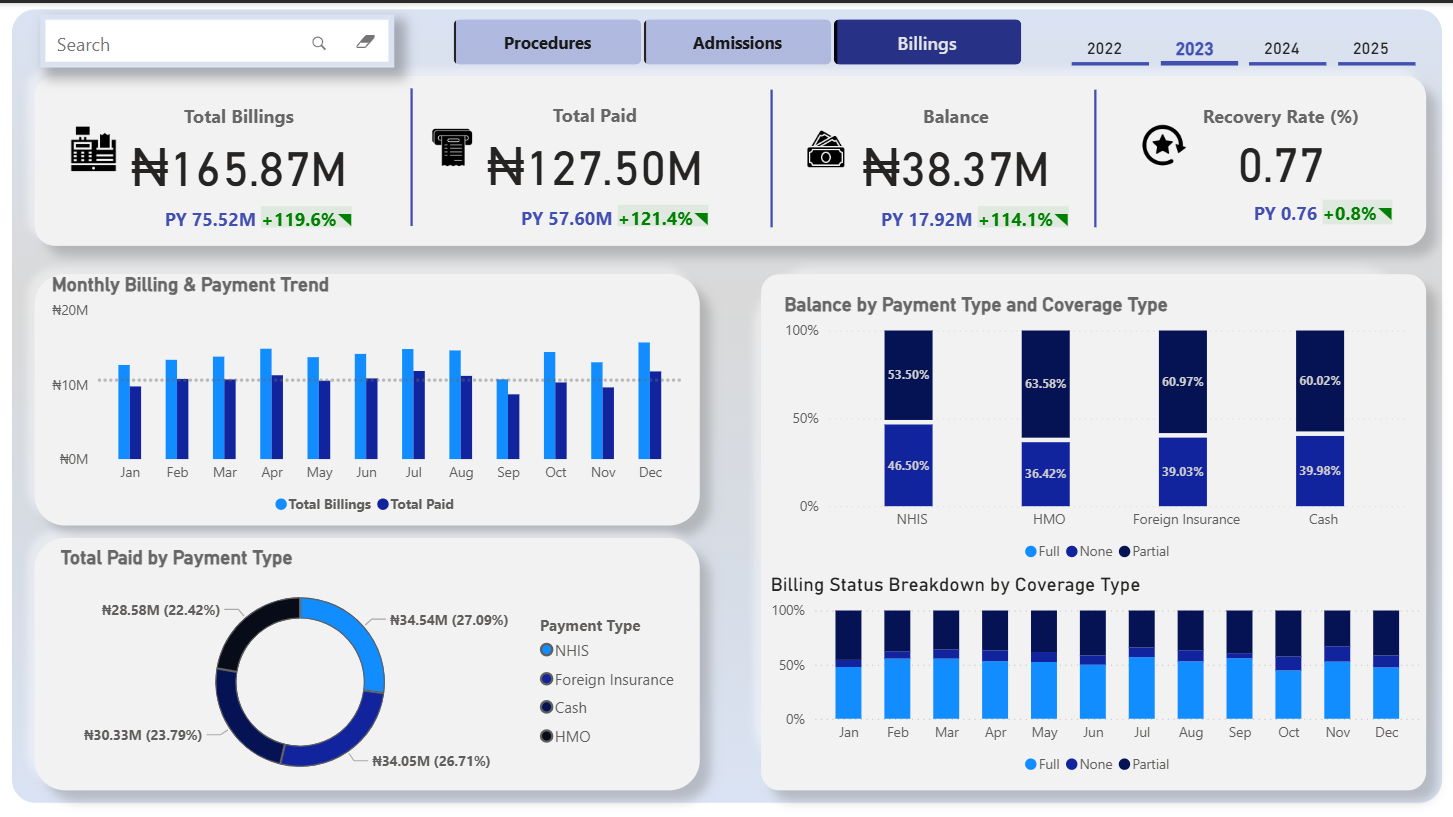

The page's visual inventory and layout, read from the dashboard file:
{"tool":"powerbi","page":{"name":"Billings","canvas":[1280,720],"ordinal":2},"visuals":[{"type":"advancedSlicerVisual","fields":{"Values":["Calendar_Billing.Year"]},"box":[937.9,10.2,315.6,47.1],"z":0},{"type":"cardVisual","fields":{"Data":["All Measures.Total Billings"]},"box":[40.6,71.1,286.8,132],"z":1000},{"type":"cardVisual","fields":{"Data":["All Measures.Total Amount Paid"]},"box":[355.9,70.2,284.5,131.9],"z":2000},{"type":"cardVisual","fields":{"Data":["All Measures.Outstanding Balance"]},"box":[673,71.4,284.5,131.9],"z":3000},{"type":"cardVisual","fields":{"Data":["All Measures.Recovery Rate (%)"]},"box":[957.5,71.4,284.5,131.9],"z":4000},{"type":"lineClusteredColumnComboChart","title":"Monthly Billing & Payment Trend","fields":{"Category":["Calendar_Billing.Month"],"Y":["All Measures.Total Billings","All Measures.Total Amount Paid"]},"box":[40.8,237.2,563.6,221.9],"z":5000},{"type":"pageNavigator","box":[399.6,14,500.1,40.7],"z":6000},{"type":"textFilter25A4896A83E0487089E2B90C9AE57C8A","fields":{"field":["procedures.PerformedBy"]},"box":[35.6,10.2,311.8,47.1],"z":7000},{"type":"donutChart","title":"Total Paid by Payment Type","fields":{"Y":["All Measures.Total Amount Paid"],"Category":["billing.PaymentType"]},"box":[48.4,477.2,558.7,221.4],"z":8000},{"type":"hundredPercentStackedColumnChart","title":" Balance by Payment Type and Coverage Type","fields":{"Category":["billing.PaymentType"],"Y":["All Measures.Outstanding Balance"],"Series":["billing.CoverageType"]},"box":[685.1,255.4,556.8,245.7],"z":9000},{"type":"hundredPercentStackedColumnChart","title":"Billing Status Breakdown by Coverage Type","fields":{"Category":["Calendar_Billing.Month"],"Y":["Sum(billing.TotalCost)"],"Series":["billing.CoverageType"]},"box":[673,501.1,581,186.4],"z":10000}]}

Visuals, with their boxes in screenshot pixels (x1, y1, x2, y2), scaled from the page's 1280x720 canvas onto the 1453x817 screenshot:
advancedSlicerVisual - Calendar_Billing.Year: [x1=1065, y1=12, x2=1423, y2=65]
cardVisual - All Measures.Total Billings: [x1=46, y1=81, x2=372, y2=230]
cardVisual - All Measures.Total Amount Paid: [x1=404, y1=80, x2=727, y2=229]
cardVisual - All Measures.Outstanding Balance: [x1=764, y1=81, x2=1087, y2=231]
cardVisual - All Measures.Recovery Rate (%): [x1=1087, y1=81, x2=1410, y2=231]
"Monthly Billing & Payment Trend" lineClusteredColumnComboChart: [x1=46, y1=269, x2=686, y2=521]
pageNavigator: [x1=454, y1=16, x2=1021, y2=62]
textFilter25A4896A83E0487089E2B90C9AE57C8A - procedures.PerformedBy: [x1=40, y1=12, x2=394, y2=65]
"Total Paid by Payment Type" donutChart: [x1=55, y1=541, x2=689, y2=793]
" Balance by Payment Type and Coverage Type" hundredPercentStackedColumnChart: [x1=778, y1=290, x2=1410, y2=569]
"Billing Status Breakdown by Coverage Type" hundredPercentStackedColumnChart: [x1=764, y1=569, x2=1423, y2=780]
